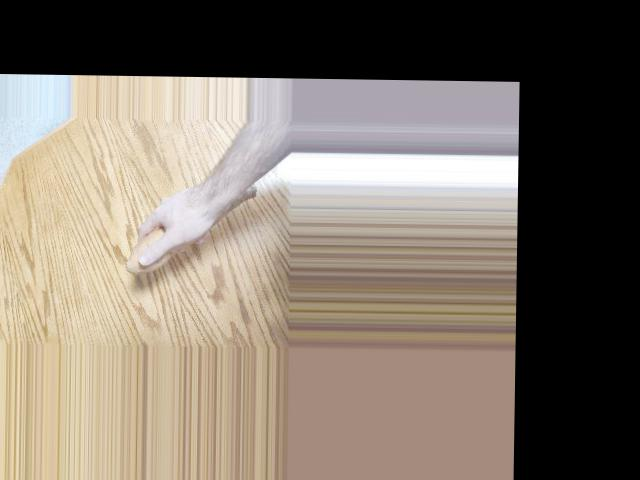sweet_potato: (126, 181, 260, 276)
